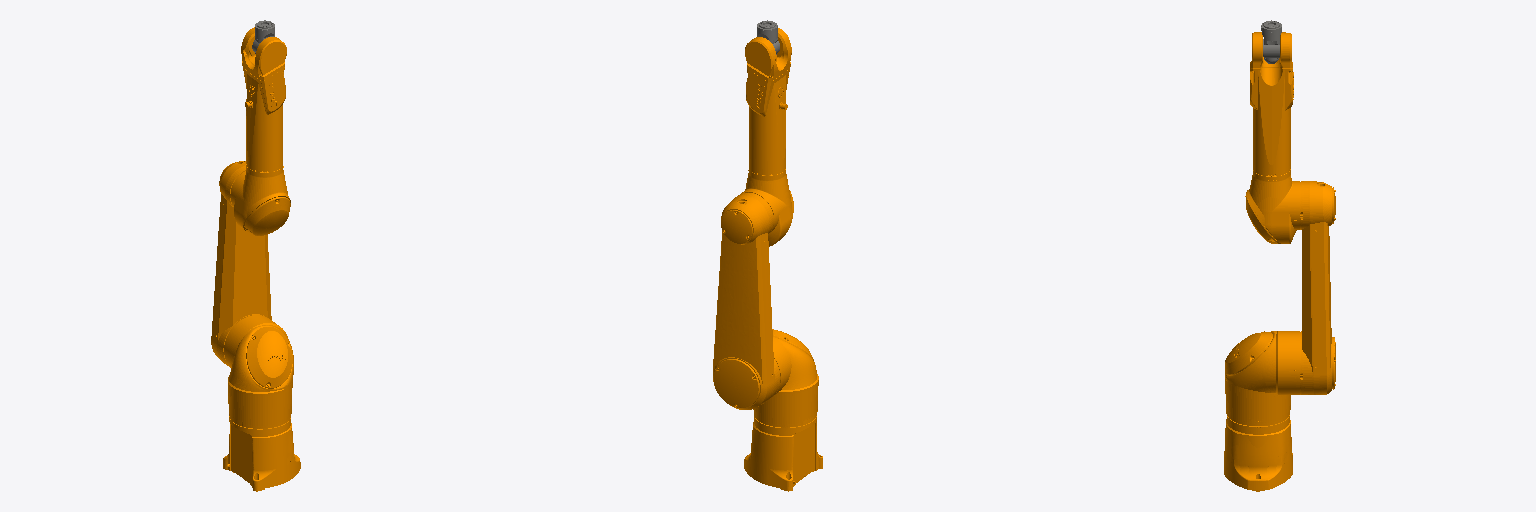
The robot description file, URDF, robot "staubli_tx90xl":
<?xml version="1.0" ?>
<!-- =================================================================================== -->
<!-- |    This document was autogenerated by xacro from tx90xl.xacro                   | -->
<!-- |    EDITING THIS FILE BY HAND IS NOT RECOMMENDED                                 | -->
<!-- =================================================================================== -->
<robot name="staubli_tx90xl" xmlns:xacro="http://ros.org/wiki/xacro">
  <!-- colours based on RAL values supplied by Staubli -->
  <!-- all RAL colours converted using http://www.visual-graphics.de/en/customer-care/ral-colours -->
  <!-- default colours for robots -->
  <!-- RAL 1028 - Melon yellow - scara (non-textured) and 6-axis (textured) robots -->
  <!-- RAL 7035 - Light grey - scara robot ESD -->
  <!-- RAL 7045 - Telegrey 1 - scara robot base (textured) -->
  <!-- RAL 7047 - Telegrey 4 - paint (smooth) -->
  <!-- RAL 9007 - Grey aluminium - HE (smooth) -->
  <!-- RAL 9016 - Traffic white - CR (smooth) -->
  <!-- old colour definitions, for bw-compatibility. These are DEPRECATED. -->
  <!-- default colors for robots -->
  <!-- old material definitions, for bw-compatibility. These are DEPRECATED. -->
  <!-- links -->
  <link name="base_link">
    <visual>
      <origin rpy="0 0 0" xyz="0 0 0"/>
      <geometry>
        <mesh filename="package://staubli_tx90_support/meshes/tx90/visual/base_link.stl"/>
      </geometry>
      <material name="">
        <color rgba="1.0 0.607843137255 0.0 1.0"/>
      </material>
    </visual>
    <collision>
      <origin rpy="0 0 0" xyz="0 0 0"/>
      <geometry>
        <mesh filename="package://staubli_tx90_support/meshes/tx90/collision/base_link.stl"/>
      </geometry>
    </collision>
    <inertial>
      <mass value="10.733459"/>
      <origin rpy="0.0 0.0 0.0" xyz="0.014288 0.000001 0.122264"/>
      <inertia ixx="0.09659003750" ixy="-0.00000507582" ixz="-0.00380302939" iyy="0.08759138191" iyz="-0.00000102074" izz="0.08163249578"/>
    </inertial>
  </link>
  <link name="link_1">
    <visual>
      <origin rpy="0 0 0" xyz="0 0 0"/>
      <geometry>
        <mesh filename="package://staubli_tx90_support/meshes/tx90/visual/link_1.stl"/>
      </geometry>
      <material name="">
        <color rgba="1.0 0.607843137255 0.0 1.0"/>
      </material>
    </visual>
    <collision>
      <origin rpy="0 0 0" xyz="0 0 0"/>
      <geometry>
        <mesh filename="package://staubli_tx90_support/meshes/tx90/collision/link_1.stl"/>
      </geometry>
    </collision>
    <inertial>
      <mass value="16.934564"/>
      <origin rpy="0.0 0.0 0.0" xyz="0.019143 0.024764 -0.064596"/>
      <inertia ixx="0.222318" ixy="0.016499" ixz="0.023794" iyy="0.208959" iyz="0.031663" izz="0.157081"/>
    </inertial>
  </link>
  <link name="link_2">
    <visual>
      <origin rpy="0 0 0" xyz="0 0 0"/>
      <geometry>
        <mesh filename="package://staubli_tx90_support/meshes/tx90xl/visual/link_2.stl"/>
      </geometry>
      <material name="">
        <color rgba="1.0 0.607843137255 0.0 1.0"/>
      </material>
    </visual>
    <collision>
      <origin rpy="0 0 0" xyz="0 0 0"/>
      <geometry>
        <mesh filename="package://staubli_tx90_support/meshes/tx90xl/collision/link_2.stl"/>
      </geometry>
    </collision>
    <inertial>
      <mass value="17.789372"/>
      <origin rpy="0.0 0.0 0.0" xyz="-0.000005 0.219316 0.276936"/>
      <inertia ixx="1.071537" ixy="0.000005" ixz="-0.000015" iyy="1.108645" iyz="-0.007651" izz="0.074022"/>
    </inertial>
  </link>
  <link name="link_3">
    <visual>
      <origin rpy="0 0 0" xyz="0 0 0"/>
      <geometry>
        <mesh filename="package://staubli_tx90_support/meshes/tx90/visual/link_3.stl"/>
      </geometry>
      <material name="">
        <color rgba="1.0 0.607843137255 0.0 1.0"/>
      </material>
    </visual>
    <collision>
      <origin rpy="0 0 0" xyz="0 0 0"/>
      <geometry>
        <mesh filename="package://staubli_tx90_support/meshes/tx90/collision/link_3.stl"/>
      </geometry>
    </collision>
    <inertial>
      <mass value="7.501506"/>
      <origin rpy="0.0 0.0 0.0" xyz="0.000002 0.065008 0.003572"/>
      <inertia ixx="0.058902" ixy="0.000000" ixz="0.000001" iyy="0.056884" iyz="-0.003672" izz="0.034271"/>
    </inertial>
  </link>
  <link name="link_4">
    <visual>
      <origin rpy="0 0 0" xyz="0 0 0"/>
      <geometry>
        <mesh filename="package://staubli_tx90_support/meshes/tx90xl/visual/link_4.stl"/>
      </geometry>
      <material name="">
        <color rgba="1.0 0.607843137255 0.0 1.0"/>
      </material>
    </visual>
    <collision>
      <origin rpy="0 0 0" xyz="0 0 0"/>
      <geometry>
        <mesh filename="package://staubli_tx90_support/meshes/tx90xl/collision/link_4.stl"/>
      </geometry>
    </collision>
    <inertial>
      <mass value="7.916800"/>
      <origin rpy="0.0 0.0 0.0" xyz="-0.001746 0.050006 0.410582"/>
      <inertia ixx="0.188254" ixy="0.000042" ixz="-0.001998" iyy="0.182701" iyz="0.000005" izz="0.022684"/>
    </inertial>
  </link>
  <link name="link_5">
    <visual>
      <origin rpy="0 0 0" xyz="0 0 0"/>
      <geometry>
        <mesh filename="package://staubli_tx90_support/meshes/tx90/visual/link_5.stl"/>
      </geometry>
      <material name="">
        <color rgba="0.529411764706 0.521568627451 0.505882352941 1.0"/>
      </material>
    </visual>
    <collision>
      <origin rpy="0 0 0" xyz="0 0 0"/>
      <geometry>
        <mesh filename="package://staubli_tx90_support/meshes/tx90/collision/link_5.stl"/>
      </geometry>
    </collision>
    <inertial>
      <mass value="0.568760"/>
      <origin rpy="0.0 0.0 0.0" xyz="-0.000001 0.049931 0.022823"/>
      <inertia ixx="0.001084" ixy="0.000000" ixz="0.000000" iyy="0.001123" iyz="0.000001" izz="0.000383"/>
    </inertial>
  </link>
  <link name="link_6">
    <visual>
      <origin rpy="0 0 0" xyz="0 0 0"/>
      <geometry>
        <mesh filename="package://staubli_tx90_support/meshes/tx90/visual/link_6.stl"/>
      </geometry>
      <material name="">
        <color rgba="0.529411764706 0.521568627451 0.505882352941 1.0"/>
      </material>
    </visual>
    <collision>
      <origin rpy="0 0 0" xyz="0 0 0"/>
      <geometry>
        <mesh filename="package://staubli_tx90_support/meshes/tx90/collision/link_6.stl"/>
      </geometry>
    </collision>
    <inertial>
      <mass value="0.030977"/>
      <origin rpy="0.0 0.0 0.0" xyz="-0.000243 0.050001 -0.006293"/>
      <inertia ixx="0.000012" ixy="0.000000" ixz="0.000000" iyy="0.000011" iyz="0.000000" izz="0.000022"/>
    </inertial>
  </link>
  <link name="tool0"/>
  <!-- joints -->
  <joint name="joint_1" type="revolute">
    <origin rpy="0 0 0" xyz="0 0 0.478"/>
    <parent link="base_link"/>
    <child link="link_1"/>
    <axis xyz="0 0 1"/>
    <!-- from Staubli instruction manual:
      (1) effort limit = 318 Nm if floor mounted
      (2) effort limit = 111 Nm if wall mounted -->
    <limit effort="318.0" lower="-3.14159" upper="3.14159" velocity="3.32"/>
    <dynamics damping="0.0" friction="0.0"/>
  </joint>
  <joint name="joint_2" type="revolute">
    <origin rpy="0 0 0" xyz="0.050 0 0"/>
    <parent link="link_1"/>
    <child link="link_2"/>
    <axis xyz="0 1 0"/>
    <limit effort="90.0" lower="-2.268928" upper="2.574360" velocity="2.79"/>
    <dynamics damping="0.0" friction="0.0"/>
  </joint>
  <joint name="joint_3" type="revolute">
    <origin rpy="0 0 0" xyz="0 0.05 0.650"/>
    <parent link="link_2"/>
    <child link="link_3"/>
    <axis xyz="0 1 0"/>
    <limit effort="53.0" lower="-2.530727" upper="2.530727" velocity="4.01"/>
    <dynamics damping="0.0" friction="0.0"/>
  </joint>
  <joint name="joint_4" type="revolute">
    <origin rpy="0 0 0" xyz="0 0 0"/>
    <parent link="link_3"/>
    <child link="link_4"/>
    <axis xyz="0 0 1"/>
    <limit effort="34.0" lower="-4.712389" upper="4.712389" velocity="6.98"/>
    <dynamics damping="0.0" friction="0.0"/>
  </joint>
  <joint name="joint_5" type="revolute">
    <origin rpy="0 0 0" xyz="0 0 0.650"/>
    <parent link="link_4"/>
    <child link="link_5"/>
    <axis xyz="0 1 0"/>
    <limit effort="29.0" lower="-2.007129" upper="2.443461" velocity="6.02"/>
    <dynamics damping="0.0" friction="0.0"/>
  </joint>
  <joint name="joint_6" type="revolute">
    <origin rpy="0 0 0" xyz="0 0 0.100"/>
    <parent link="link_5"/>
    <child link="link_6"/>
    <axis xyz="0 0 1"/>
    <limit effort="11.0" lower="-4.712389" upper="4.712389" velocity="10.47"/>
    <dynamics damping="0.0" friction="0.0"/>
  </joint>
  <joint name="joint_6-tool0" type="fixed">
    <parent link="link_6"/>
    <child link="tool0"/>
    <origin rpy="0 0 0" xyz="0 0 0"/>
  </joint>
</robot>

--- Render facts (derived) ---
Views: 3 orthographic renders of the robot side by side, from view 1: azimuth 30°, elevation 25°; view 2: azimuth 150°, elevation 25°; view 3: azimuth 270°, elevation 25°.
Model staubli_tx90xl with 8 links and 7 joints (6 revolute, 1 fixed), rooted at base_link, posed every joint at zero.
Visible links, largest first — view 1: link_1, link_2, link_4, base_link, link_3; view 2: link_2, link_4, base_link, link_1, link_3; view 3: link_2, link_1, link_4, base_link, link_3, link_5.
Boxes of the visible links, left/top/right/bottom form: link_1: left=224, top=315, right=293, bottom=428; link_2: left=211, top=161, right=271, bottom=367; link_4: left=241, top=27, right=286, bottom=171; base_link: left=223, top=416, right=300, bottom=491; link_3: left=230, top=164, right=290, bottom=235; link_2: left=713, top=193, right=779, bottom=409; link_4: left=745, top=28, right=791, bottom=174; base_link: left=744, top=416, right=822, bottom=491; link_1: left=753, top=329, right=818, bottom=427; link_3: left=741, top=169, right=793, bottom=246; link_2: left=1301, top=181, right=1335, bottom=394; link_1: left=1225, top=331, right=1300, bottom=425; link_4: left=1250, top=32, right=1293, bottom=174; base_link: left=1224, top=415, right=1292, bottom=491; link_3: left=1245, top=169, right=1300, bottom=243; link_5: left=1261, top=27, right=1281, bottom=63.
Bounding box of the posed robot: 0.2973 × 0.4227 × 1.88 m (x, y, z).
Meshes: 7 distinct files referenced, 7 mesh visuals loaded (7 binary STL).
